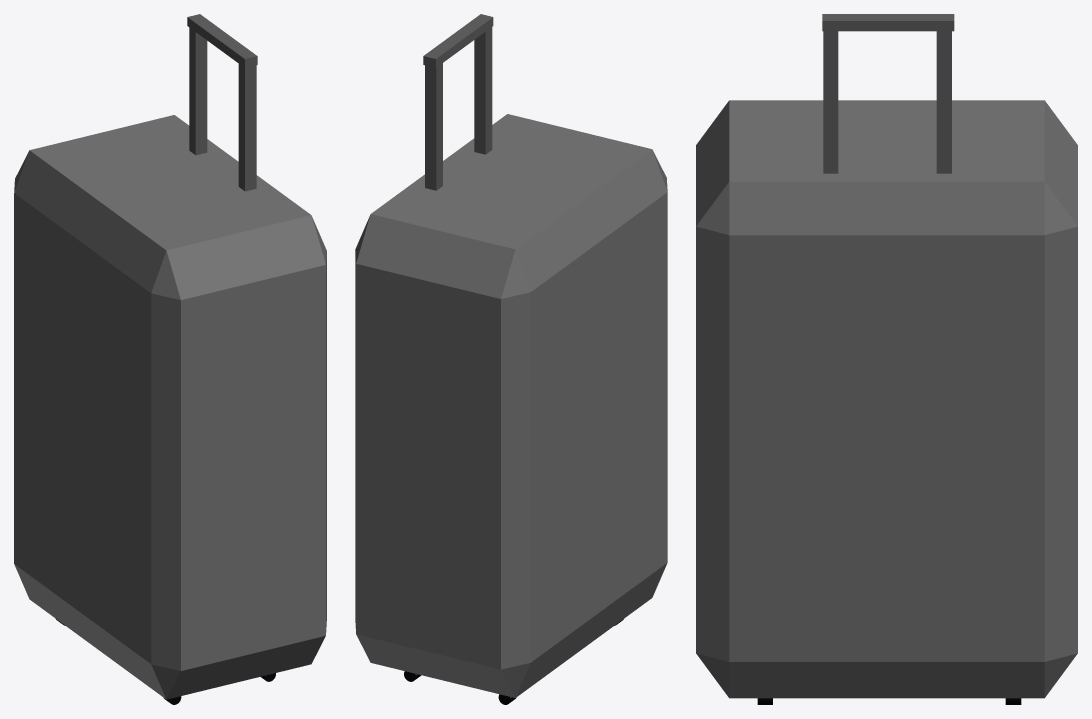
File: luggage3.fbx
The picture shows the model from 3 angles, left to right: view 1: azimuth 30°, elevation 25°; view 2: azimuth 150°, elevation 25°; view 3: azimuth 270°, elevation 25°; orthographic projection. The views are drawn at different scales.
Visible parts, largest first — view 1: Cube; view 2: Cube; view 3: Cube.
Boxes of the visible parts, x1,y1,x2,y2 form: Cube: (14, 14, 326, 704); Cube: (355, 14, 667, 704); Cube: (696, 14, 1077, 704).
Bounding box in the file's own units: 353 × 1154 × 577.
